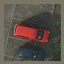car: (13, 24, 50, 42), (18, 46, 44, 61)
